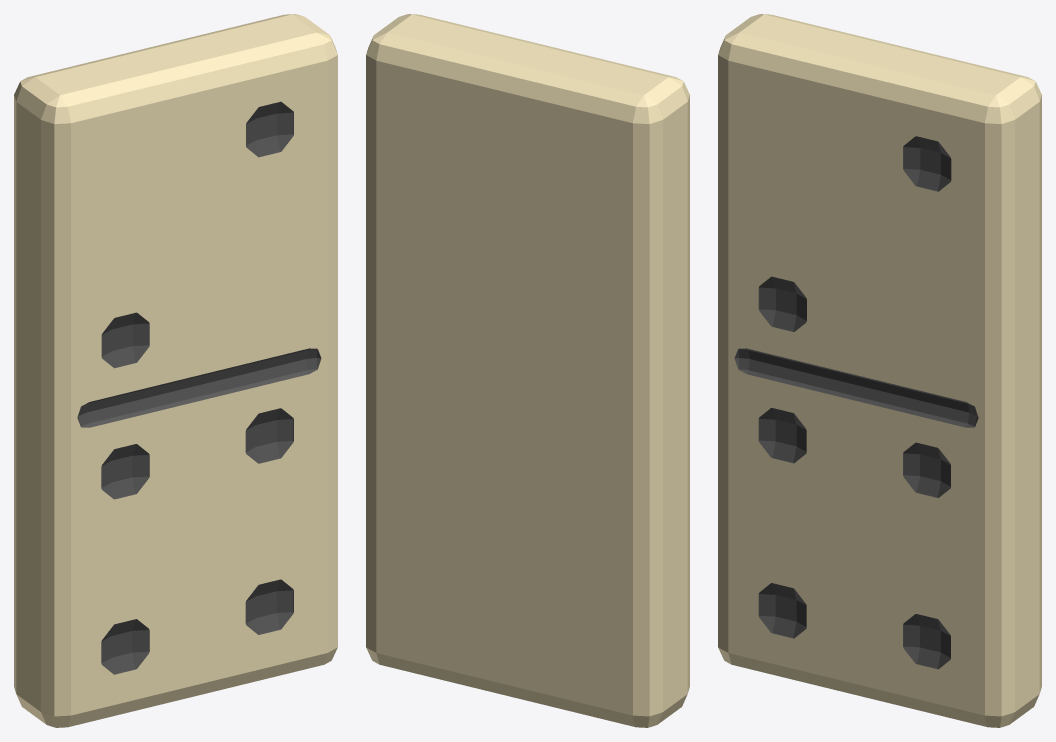
File: dominoes 2x4.fbx
3 renders of one model, left to right at view 1: azimuth 30°, elevation 25°; view 2: azimuth 150°, elevation 25°; view 3: azimuth 330°, elevation 25°, orthographic.
Visible parts, largest first — view 1: Boole_13; view 2: Boole_13; view 3: Boole_13.
Part boxes in pixels (x1=…): Boole_13: x1=14, y1=14, x2=337, y2=727; Boole_13: x1=366, y1=14, x2=689, y2=727; Boole_13: x1=718, y1=14, x2=1041, y2=727.
Size of the model in its own units: 200 by 410 by 55.02.
